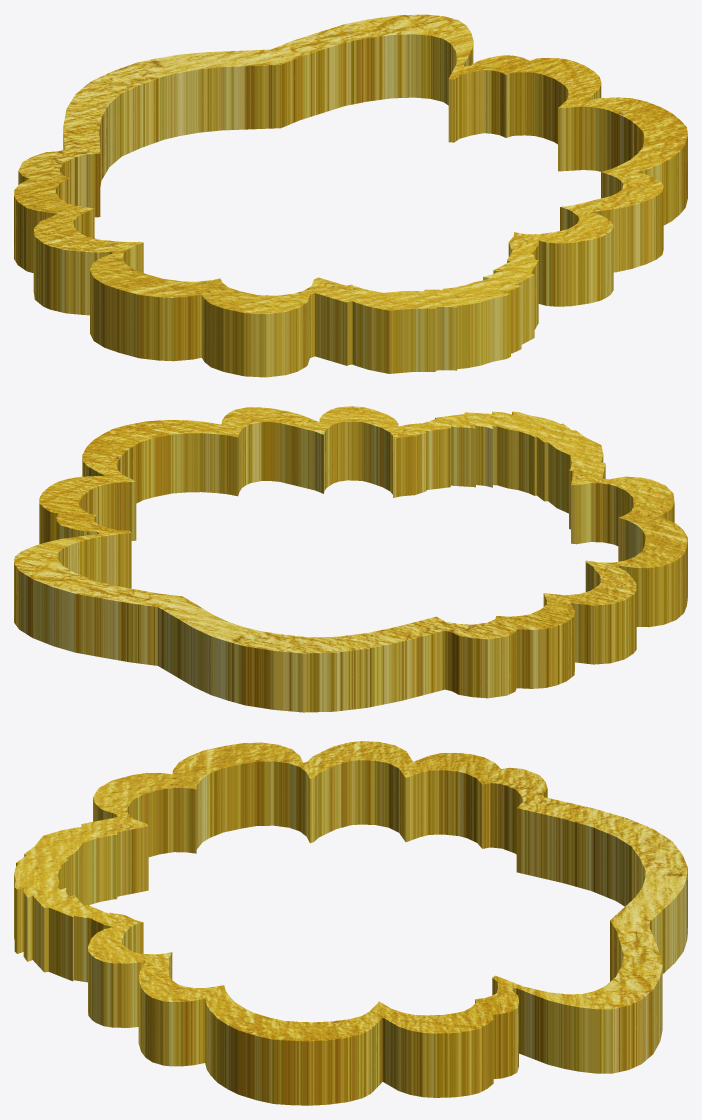
The model's file is Wood_8.FBX.
3 views of the same model, one above another, from view 1: azimuth 30°, elevation 25°; view 2: azimuth 150°, elevation 25°; view 3: azimuth 270°, elevation 25° (orthographic). The views are drawn at different scales.
Parts seen in each view (by area): view 1: Plane002; view 2: Plane002; view 3: Plane002.
Part boxes in pixels (x1,y1,x2,y2): Plane002: (14,14,687,377); Plane002: (14,406,687,712); Plane002: (14,741,687,1105).
Bounding box in the file's own units: 4.3 × 0.4301 × 4.08.
